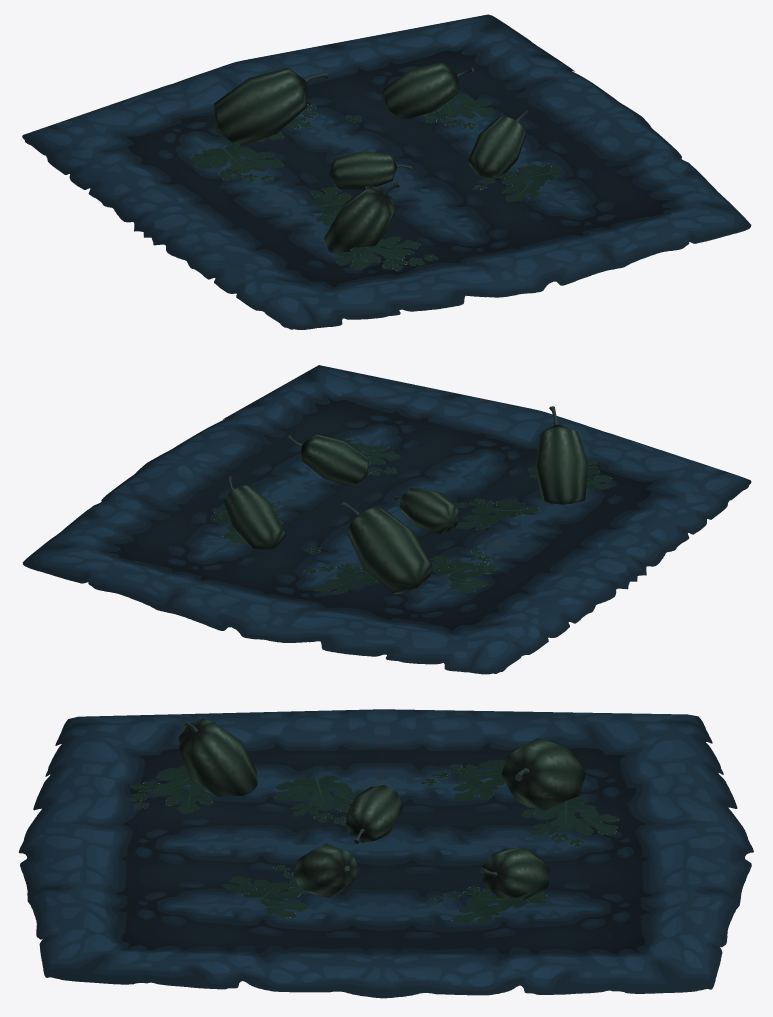
Rendered from Paddy2.FBX.
3 views of the same model, one above another, from view 1: azimuth 30°, elevation 25°; view 2: azimuth 150°, elevation 25°; view 3: azimuth 270°, elevation 25° (orthographic). The views are drawn at different scales.
Visible parts, largest first — view 1: Paddy2; view 2: Paddy2; view 3: Paddy2.
Boxes of the visible parts, bbox=[...] form: Paddy2: bbox=[22, 14, 751, 329]; Paddy2: bbox=[22, 365, 751, 674]; Paddy2: bbox=[18, 709, 753, 998].
Size of the model in its own units: 274 by 43.43 by 296.
